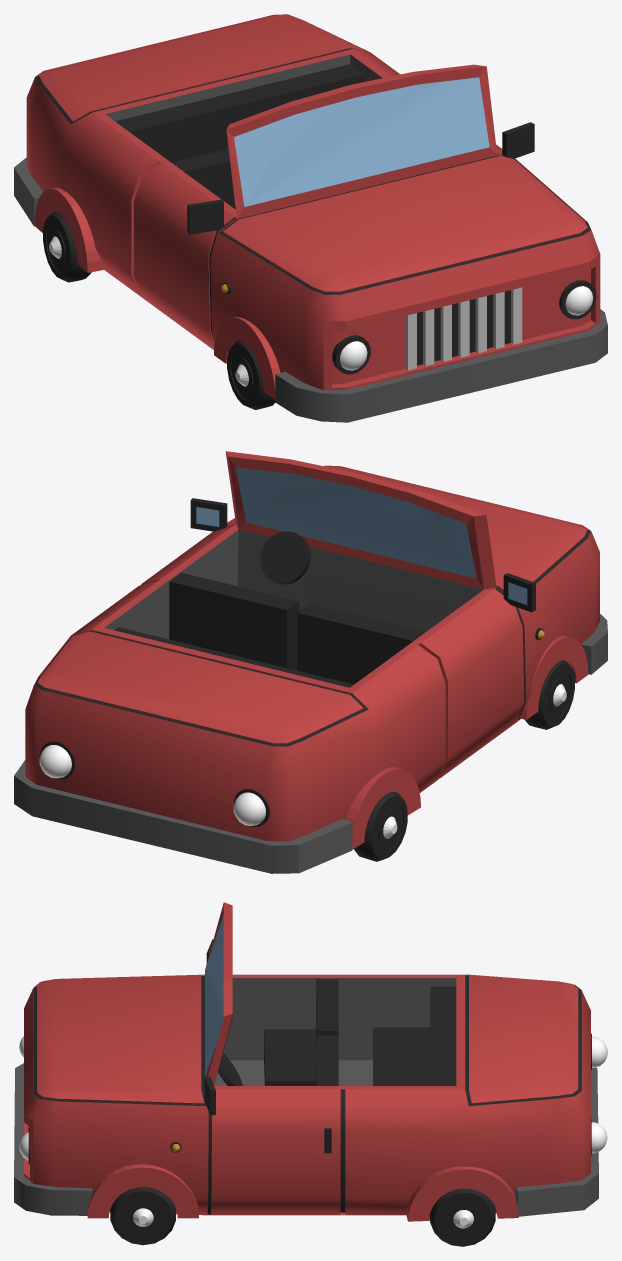
Rendered from dfae1822-364f-4471-8d49-6c5e468c30bc.glb.
3 renders of one model, top to bottom at view 1: azimuth 30°, elevation 25°; view 2: azimuth 150°, elevation 25°; view 3: azimuth 270°, elevation 25°, orthographic. The views are drawn at different scales.
Visible parts, largest first — view 1: ChamferBox001; view 2: ChamferBox001; view 3: ChamferBox001.
Part boxes in pixels (x1,y1,x2,y2): ChamferBox001: (14, 14, 607, 422); ChamferBox001: (14, 451, 607, 873); ChamferBox001: (14, 902, 607, 1246).
Bounding box in the file's own units: 40.28 × 27.69 × 66.22.
